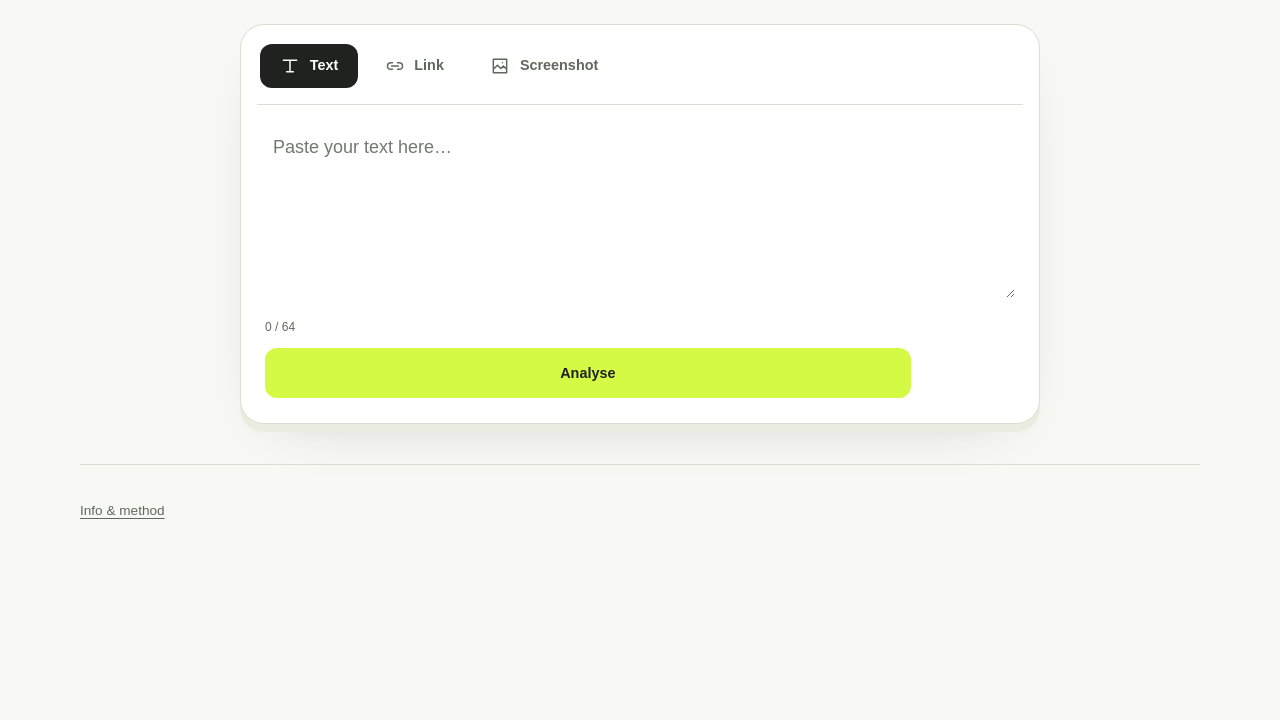
Test: one-shot text flow › shows experimental and zero-score disclosures in en
The width and height of the screenshot is (1280, 720).
In the text box: (640, 212) x1=265 y1=125 x2=1015 y2=298, type " Visible text 👋 "
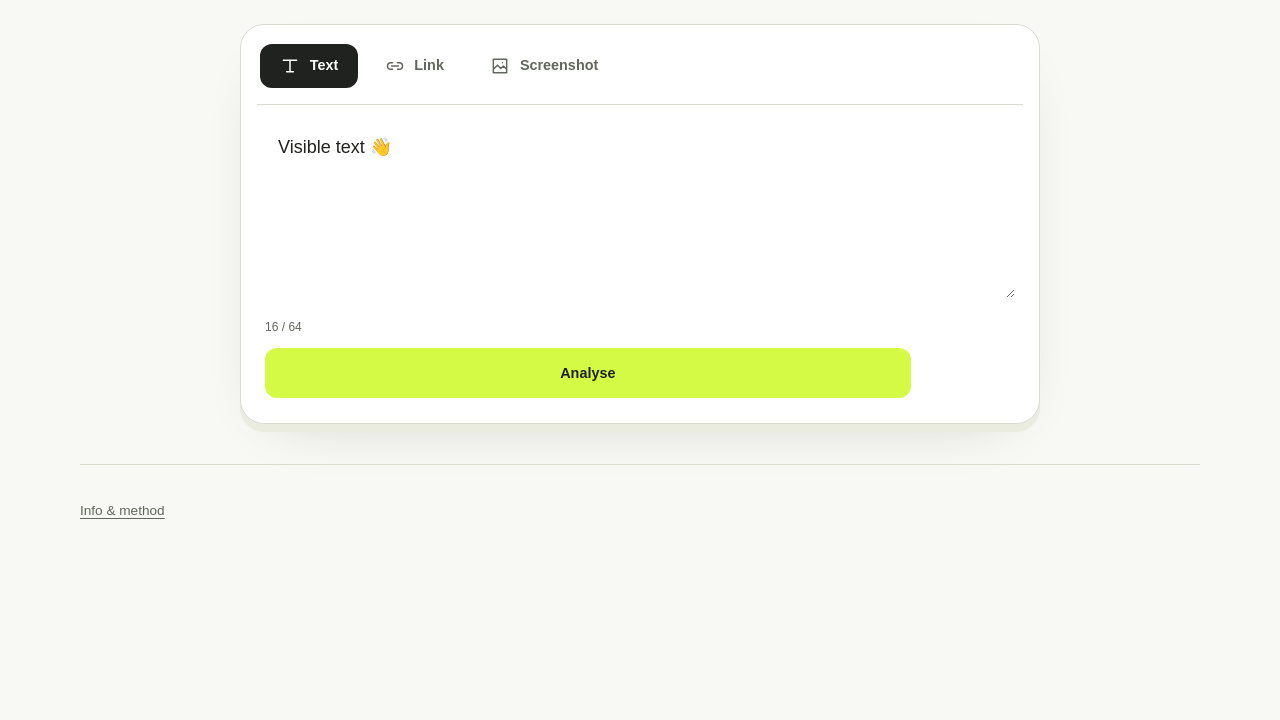
Click the button "Analyse": (588, 373) x1=265 y1=348 x2=911 y2=398
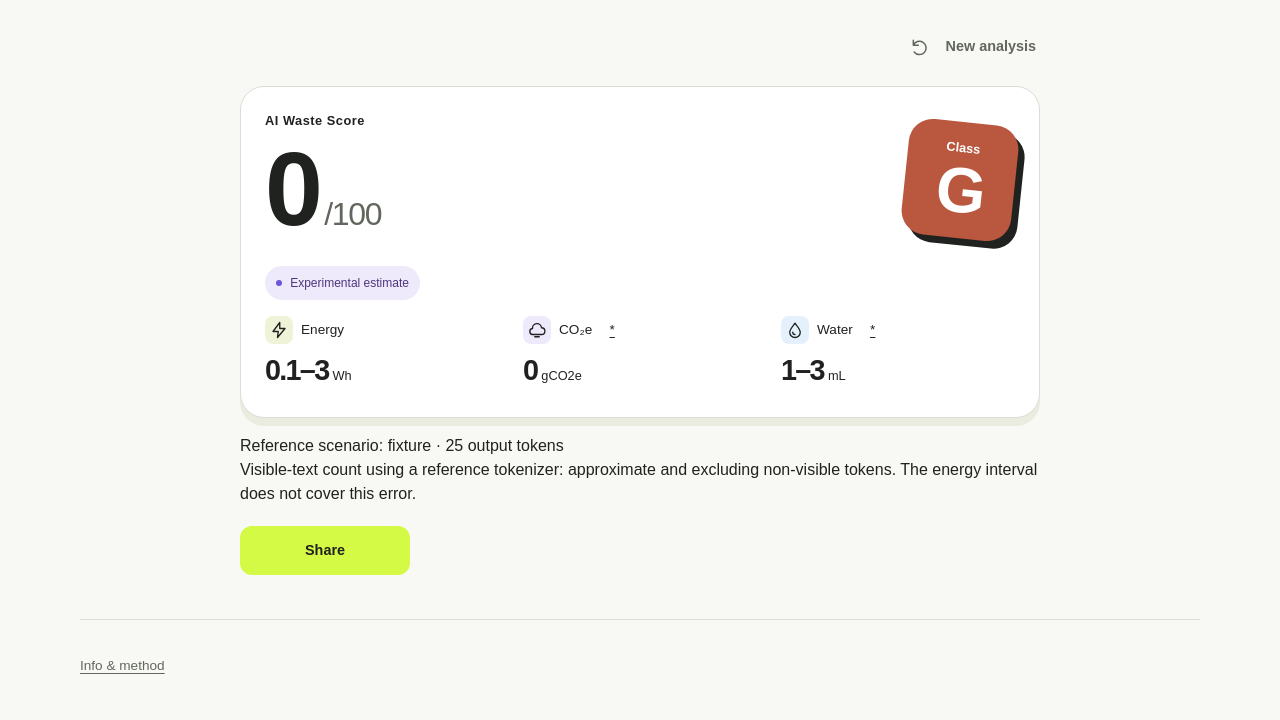
expect the text "A score rounded to 0 can accompany positive estimated energy." is not shown: met
expect the text "Experimental estimate" is shown: met, box x1=265 y1=266 x2=420 y2=300
Click the button "Info & method": (122, 666) x1=80 y1=644 x2=165 y2=688
(page scrolled)
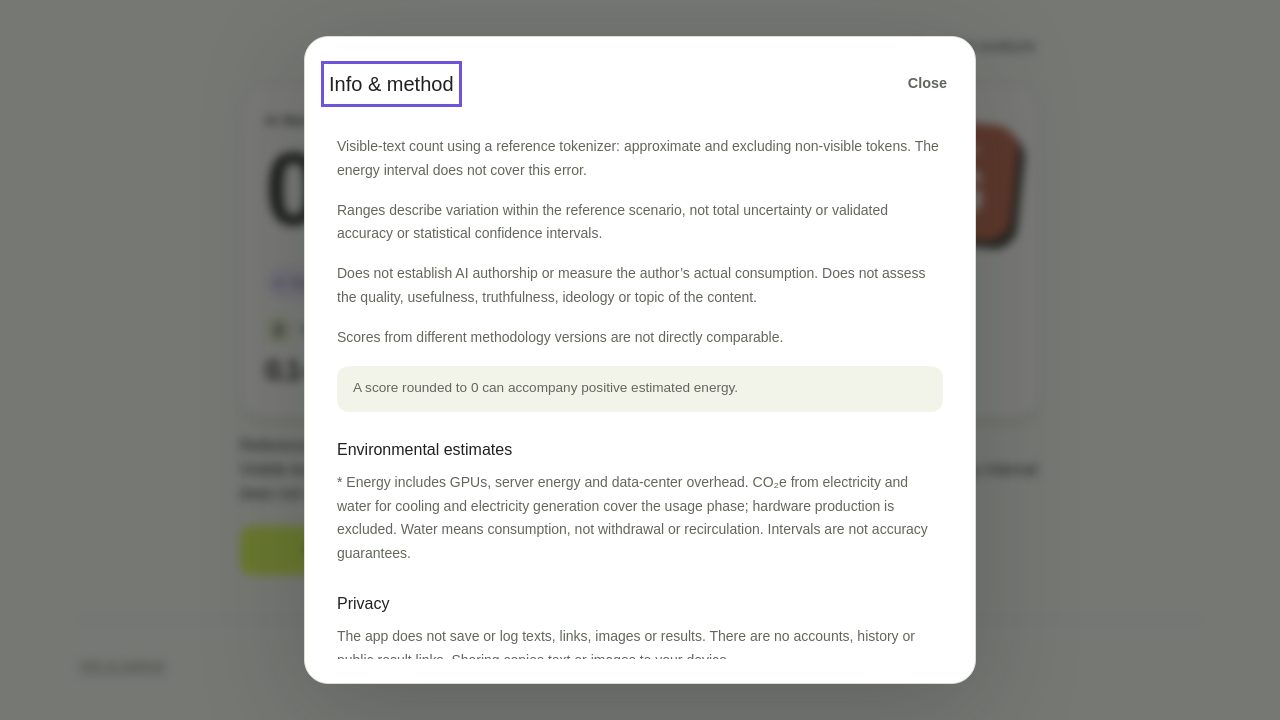
expect the text "A score rounded to 0 can accompany positive estimated energy." is shown: met, box x1=337 y1=366 x2=943 y2=412
